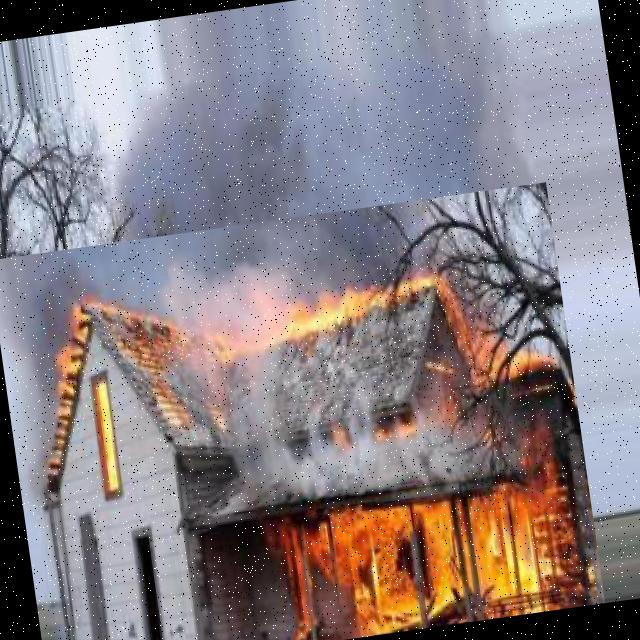fire: (0, 182, 605, 640)
